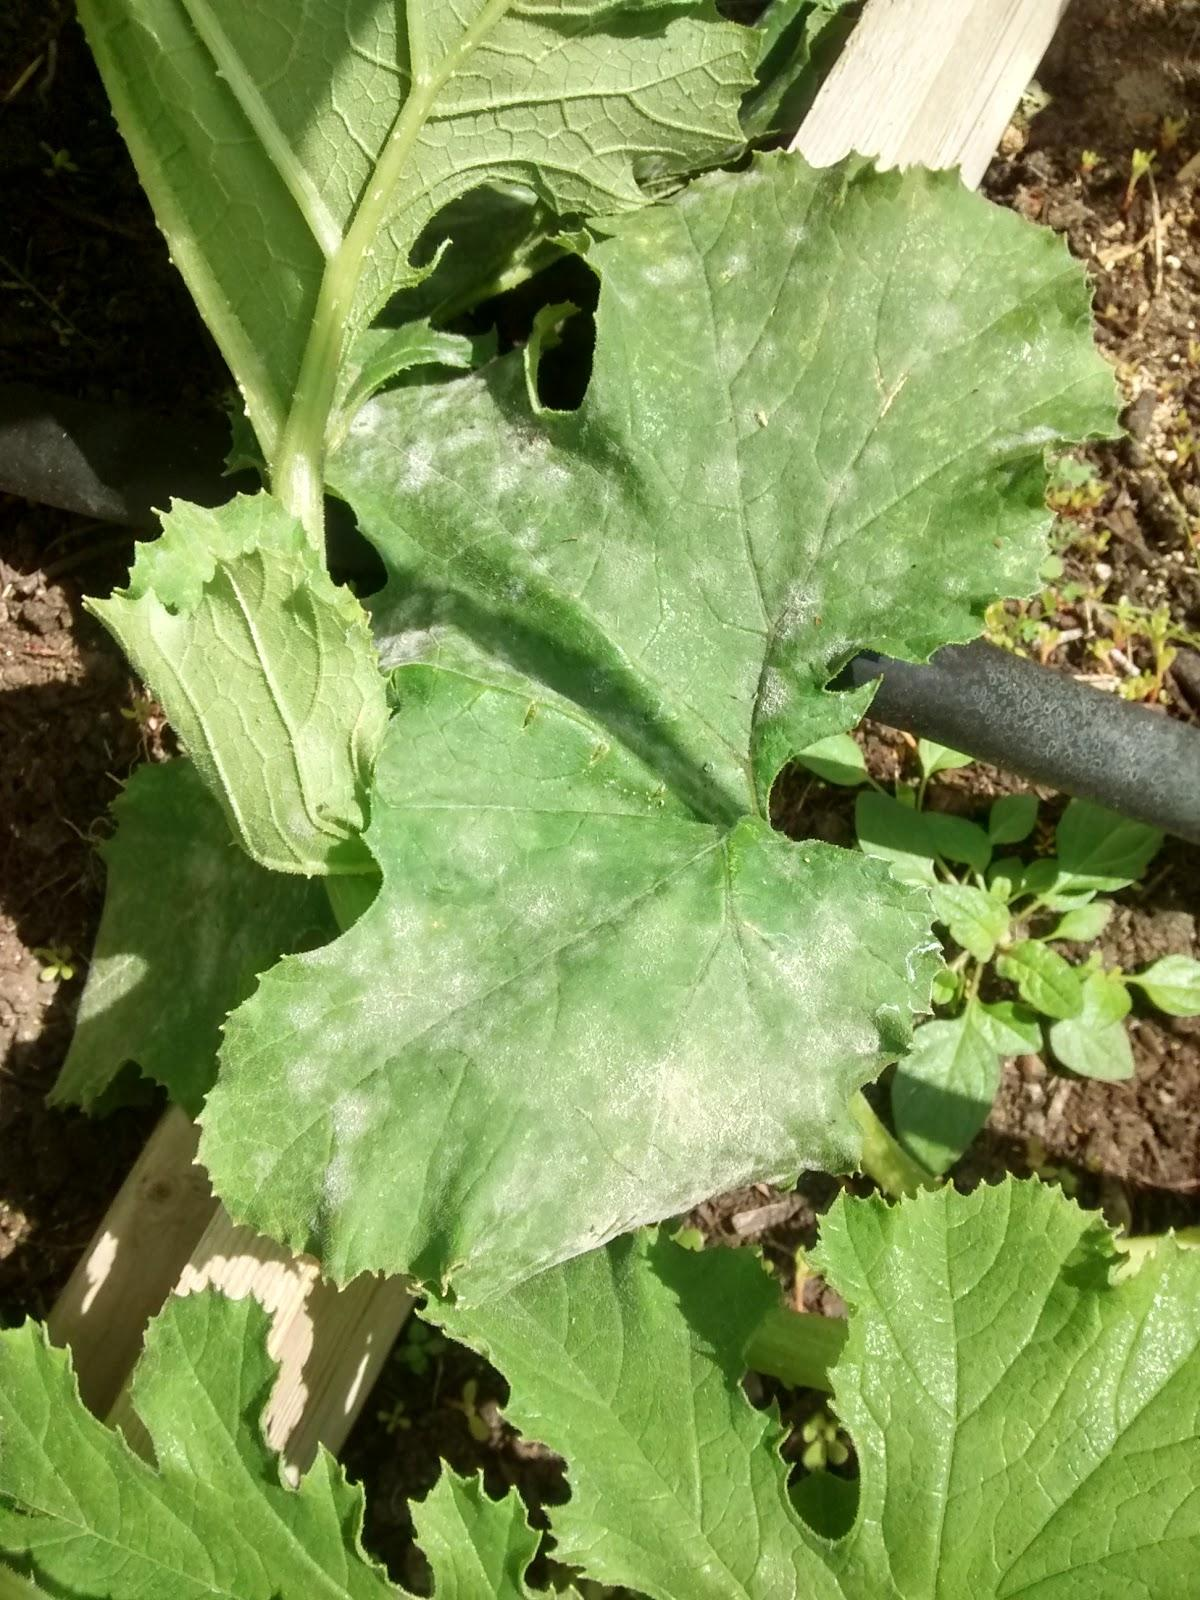Squash Powdery mildew leaf: (161, 621, 966, 1328), (326, 160, 1152, 805)
